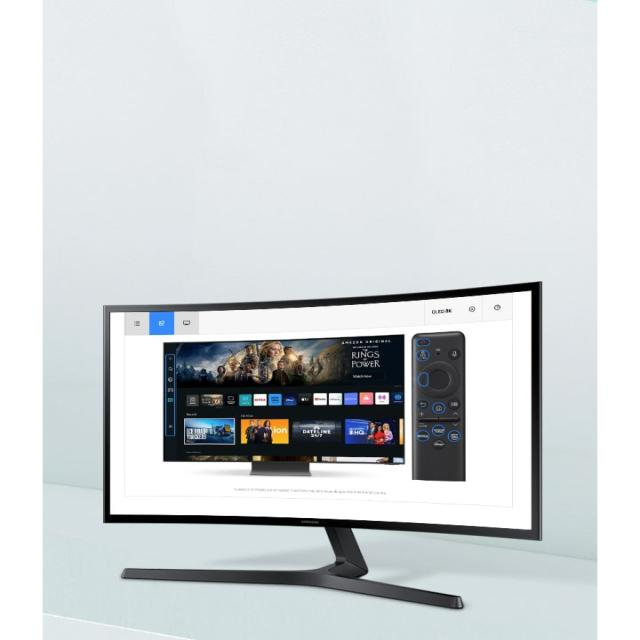electronics: (105, 282, 540, 605), (164, 332, 404, 466), (122, 527, 461, 606), (412, 331, 464, 480), (292, 420, 340, 443), (258, 463, 266, 469), (306, 520, 312, 522), (454, 600, 457, 600)
